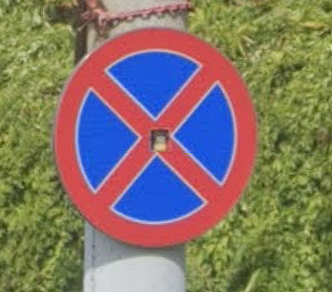oprirea_interzisa: (49, 29, 256, 247)
